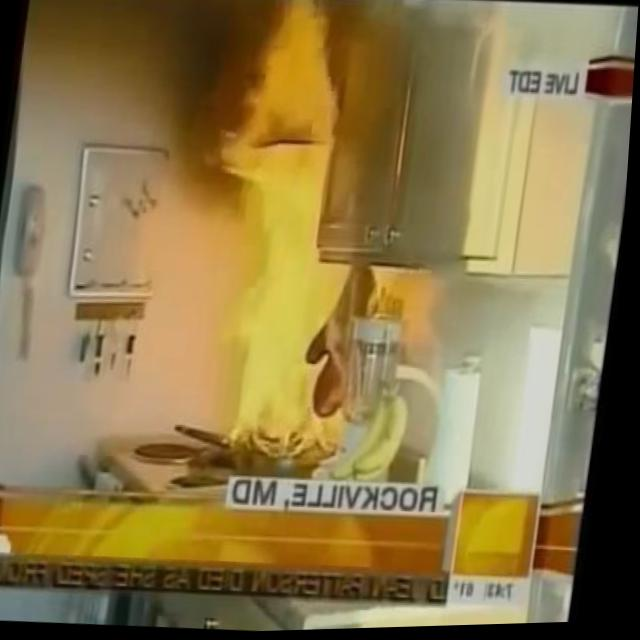fire: (177, 0, 419, 467)
